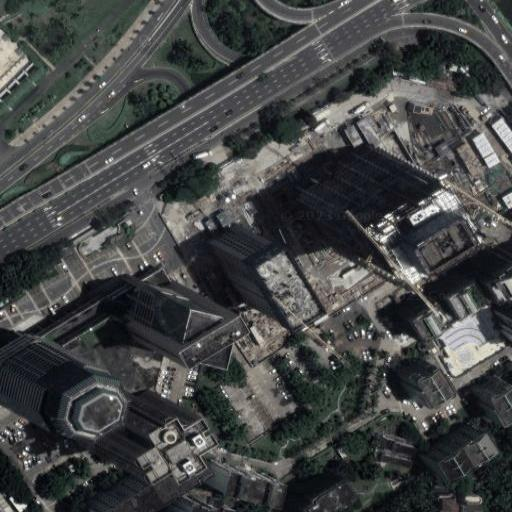building: (299, 135, 416, 241), (80, 439, 197, 512), (377, 194, 464, 270), (419, 296, 502, 375), (206, 220, 279, 308), (91, 389, 176, 458), (0, 341, 63, 413), (114, 278, 185, 338), (422, 417, 484, 467), (204, 458, 267, 493), (297, 471, 350, 512), (470, 369, 512, 412), (428, 265, 472, 306), (390, 286, 433, 327), (470, 248, 512, 289), (399, 355, 438, 395), (371, 436, 416, 468), (470, 133, 497, 168), (454, 142, 481, 175), (166, 488, 201, 512), (439, 494, 484, 512), (491, 116, 512, 152), (496, 300, 512, 337), (356, 118, 376, 144), (425, 78, 455, 92), (342, 126, 361, 148), (409, 74, 427, 84), (503, 189, 512, 207), (387, 104, 395, 113)
